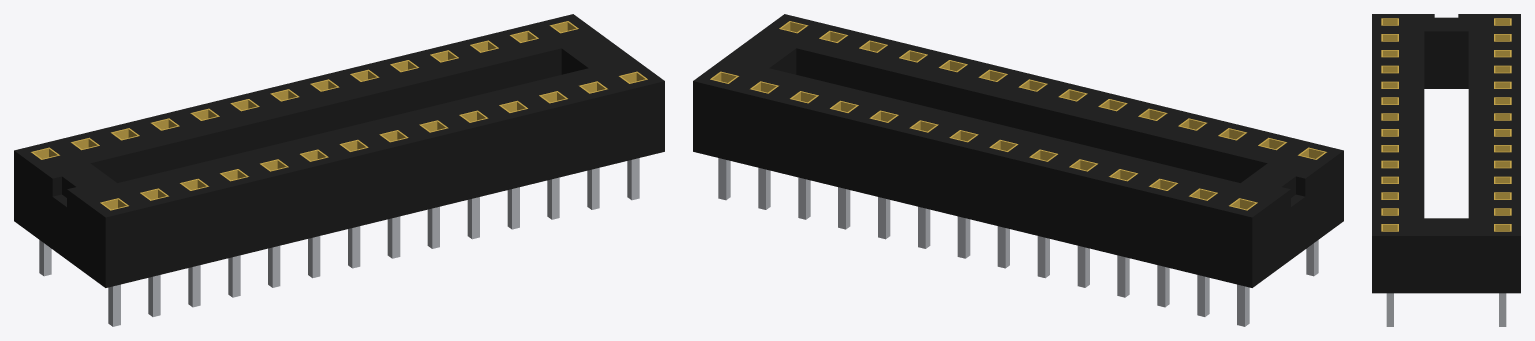
The model's file is dip-socket-28.glb.
The picture shows the model from 3 angles, left to right: view 1: azimuth 30°, elevation 25°; view 2: azimuth 150°, elevation 25°; view 3: azimuth 270°, elevation 25°; orthographic projection. The views are drawn at different scales.
Visible parts, largest first — view 1: object 1, tail-8, tail-7, tail-3, tail-4, tail-5, tail-6, tail-14, tail-1, tail-2, tail-11, tail-12 (+3 smaller); view 2: object 1, tail-21, tail-22, tail-15, tail-23, tail-24, tail-25, tail-26, tail-16, tail-17, tail-18, tail-27 (+3 smaller); view 3: object 1, tail-14, tail-15, socket-4, socket-10, socket-19, socket-25, socket-1, socket-2, socket-3, socket-5, socket-6 (+19 smaller).
Part boxes in pixels (box(x1,y1,x2,y2)): object 1: box(14, 14, 664, 287); tail-8: box(387, 216, 400, 258); tail-7: box(348, 226, 360, 268); tail-3: box(188, 265, 200, 307); tail-4: box(228, 255, 240, 297); tail-5: box(268, 245, 280, 287); tail-6: box(308, 236, 320, 278); tail-14: box(627, 158, 639, 200); tail-1: box(108, 284, 120, 326); tail-2: box(148, 275, 160, 316); tail-11: box(507, 187, 519, 229); tail-12: box(547, 177, 559, 219); object 1: box(693, 14, 1343, 287); tail-21: box(957, 216, 970, 258); tail-22: box(997, 226, 1009, 268); tail-15: box(718, 158, 730, 200); tail-23: box(1037, 236, 1049, 278); tail-24: box(1077, 245, 1089, 287); tail-25: box(1117, 255, 1129, 297); tail-26: box(1157, 265, 1169, 307); tail-16: box(758, 167, 770, 209); tail-17: box(798, 177, 810, 219); tail-18: box(838, 187, 850, 229); tail-27: box(1197, 275, 1209, 316); object 1: box(1372, 14, 1520, 293); tail-14: box(1386, 293, 1393, 326); tail-15: box(1499, 293, 1506, 326); socket-4: box(1381, 65, 1398, 73); socket-10: box(1381, 160, 1398, 168); socket-19: box(1494, 160, 1511, 168); socket-25: box(1494, 65, 1511, 73); socket-1: box(1381, 18, 1398, 25); socket-2: box(1381, 34, 1398, 41); socket-3: box(1381, 50, 1398, 57); socket-5: box(1381, 81, 1398, 88); socket-6: box(1381, 97, 1398, 104).
Bounding box in the file's own units: 0.0356 × 0.0073 × 0.0101.
